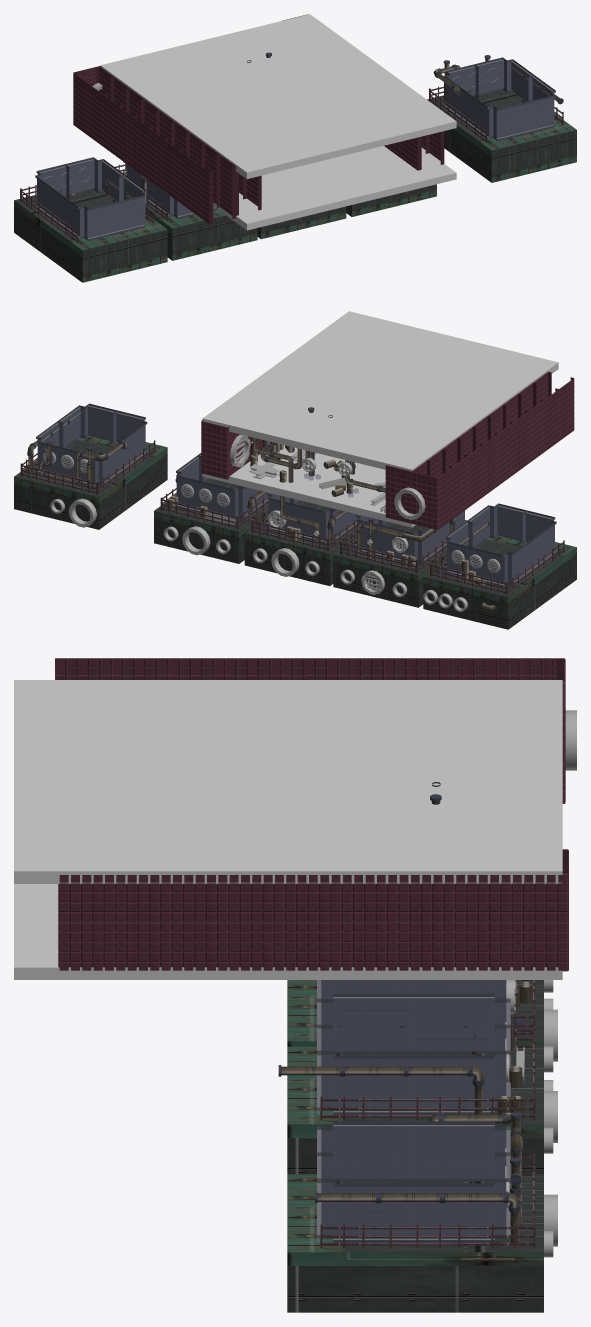
Rendered from EscenarioNuevoN1.fbx.
3 renders of one model, top to bottom at view 1: azimuth 30°, elevation 25°; view 2: azimuth 150°, elevation 25°; view 3: azimuth 270°, elevation 25°, orthographic. The views are drawn at different scales.
Parts seen in each view (by area): view 1: polySurface644, FondoLejosTile1_4_8, FondoLejosTile1_4_4, polySurface643, Pared49, FondoLejosTile1_4_7, Pared48, Pared47, FondoLejosTile1_4_5, FondoLejosTile1_4_6; view 2: polySurface644, FondoLejosTile1_4_8, FondoLejosTile1_4_4, Pared49, FondoLejosTile1_4_5, FondoLejosTile1_4_7, FondoLejosTile1_4_6, polySurface643, Pared48, Pared47, Rejilla5, Rejilla7 (+4 smaller); view 3: polySurface644, Pared47, FondoLejosTile1_4_4, FondoLejosTile1_4_5, Pared49, polySurface643, FondoLejosTile1_4_6.
Boxes of the visible parts, x1,y1,x2,y2 form: polySurface644: [100, 14, 456, 178]; FondoLejosTile1_4_8: [14, 157, 167, 282]; FondoLejosTile1_4_4: [427, 57, 576, 182]; polySurface643: [213, 146, 456, 230]; Pared49: [73, 66, 235, 224]; FondoLejosTile1_4_7: [115, 163, 257, 260]; Pared48: [99, 66, 261, 217]; Pared47: [282, 14, 444, 170]; FondoLejosTile1_4_5: [346, 184, 436, 216]; FondoLejosTile1_4_6: [257, 206, 346, 239]; polySurface644: [202, 311, 558, 471]; FondoLejosTile1_4_8: [423, 503, 576, 629]; FondoLejosTile1_4_4: [14, 403, 167, 529]; Pared49: [411, 372, 574, 529]; FondoLejosTile1_4_5: [154, 453, 268, 563]; FondoLejosTile1_4_7: [333, 510, 467, 607]; FondoLejosTile1_4_6: [244, 492, 356, 585]; polySurface643: [202, 445, 415, 527]; Pared48: [385, 372, 548, 523]; Pared47: [201, 420, 270, 479]; Rejilla5: [394, 487, 425, 519]; Rejilla7: [230, 434, 250, 467]; polySurface644: [14, 680, 562, 883]; Pared47: [58, 849, 568, 971]; FondoLejosTile1_4_4: [287, 1121, 543, 1312]; FondoLejosTile1_4_5: [287, 993, 543, 1174]; Pared49: [55, 658, 565, 705]; polySurface643: [14, 884, 562, 979]; FondoLejosTile1_4_6: [287, 980, 543, 1046].
Size of the model in its own units: 943 by 264 by 497.
